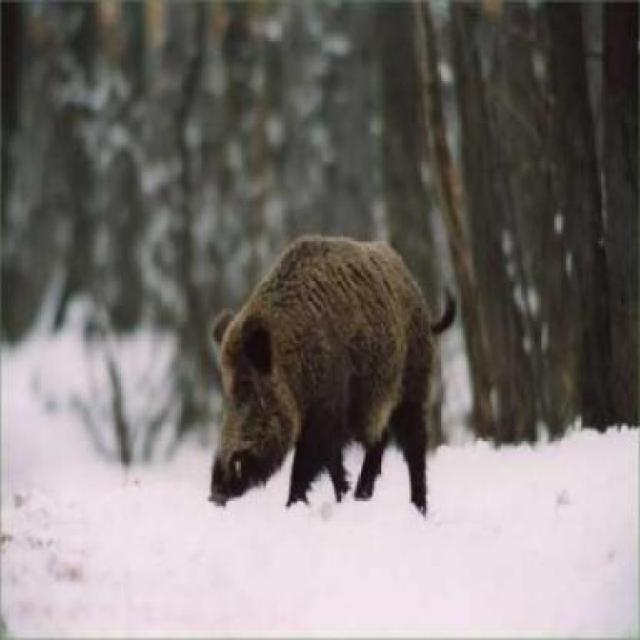pig: (160, 173, 512, 504)
